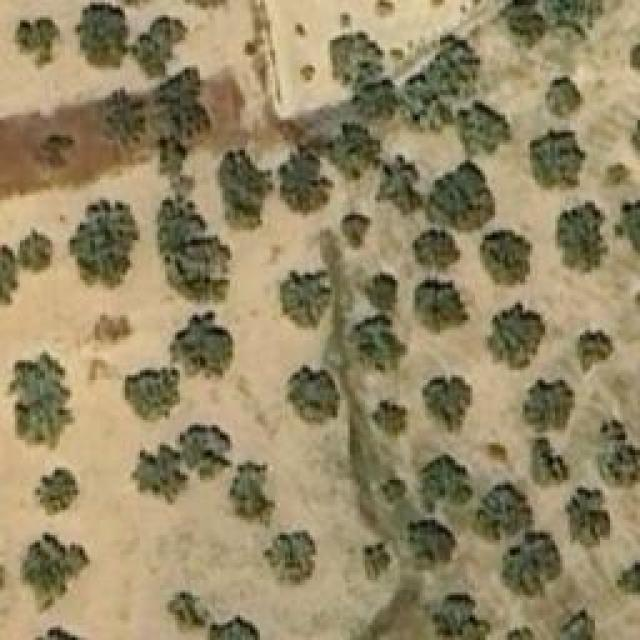Tree: (155, 203, 233, 303), (398, 35, 475, 133), (68, 198, 141, 288), (10, 355, 78, 445), (20, 533, 90, 613), (155, 65, 214, 138), (485, 300, 545, 370), (500, 525, 560, 595), (170, 313, 233, 378), (552, 203, 610, 273), (220, 150, 273, 225), (530, 128, 588, 191), (435, 165, 493, 228), (347, 315, 405, 373), (262, 530, 320, 588), (475, 482, 533, 540), (75, 5, 128, 68), (135, 15, 188, 78), (418, 455, 473, 515), (520, 380, 578, 435), (595, 420, 640, 490), (230, 460, 275, 528), (133, 448, 186, 503), (180, 425, 233, 480), (565, 488, 610, 551), (415, 280, 468, 333), (125, 368, 180, 418), (423, 378, 473, 433), (290, 365, 340, 418), (480, 233, 530, 286), (407, 518, 455, 573), (330, 125, 375, 183), (285, 153, 328, 213), (328, 33, 378, 83), (350, 75, 401, 124), (15, 18, 60, 71), (500, 0, 548, 48), (283, 273, 326, 326), (103, 95, 148, 145), (373, 160, 418, 210), (458, 102, 501, 150), (85, 312, 133, 350), (530, 440, 568, 488), (150, 133, 191, 177), (432, 610, 490, 640), (577, 328, 615, 373), (168, 592, 213, 630), (40, 128, 78, 170), (615, 200, 640, 263), (545, 78, 580, 121), (18, 228, 51, 273), (417, 230, 455, 268), (547, 0, 595, 30), (40, 473, 75, 513), (0, 245, 20, 313), (208, 615, 261, 640), (373, 397, 406, 435), (365, 273, 400, 306), (558, 605, 593, 638), (362, 542, 390, 580), (343, 215, 373, 245), (383, 478, 408, 503), (480, 443, 508, 463), (608, 165, 631, 185), (375, 0, 395, 18), (300, 65, 315, 83)
